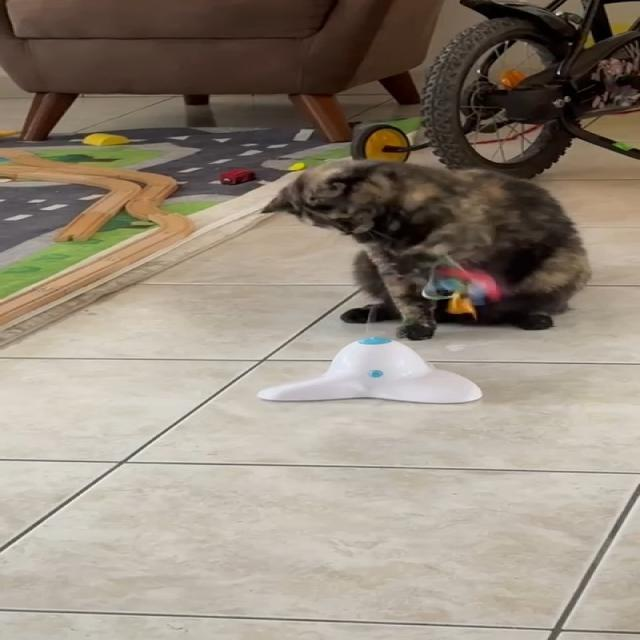authorized: (260, 157, 591, 340)
